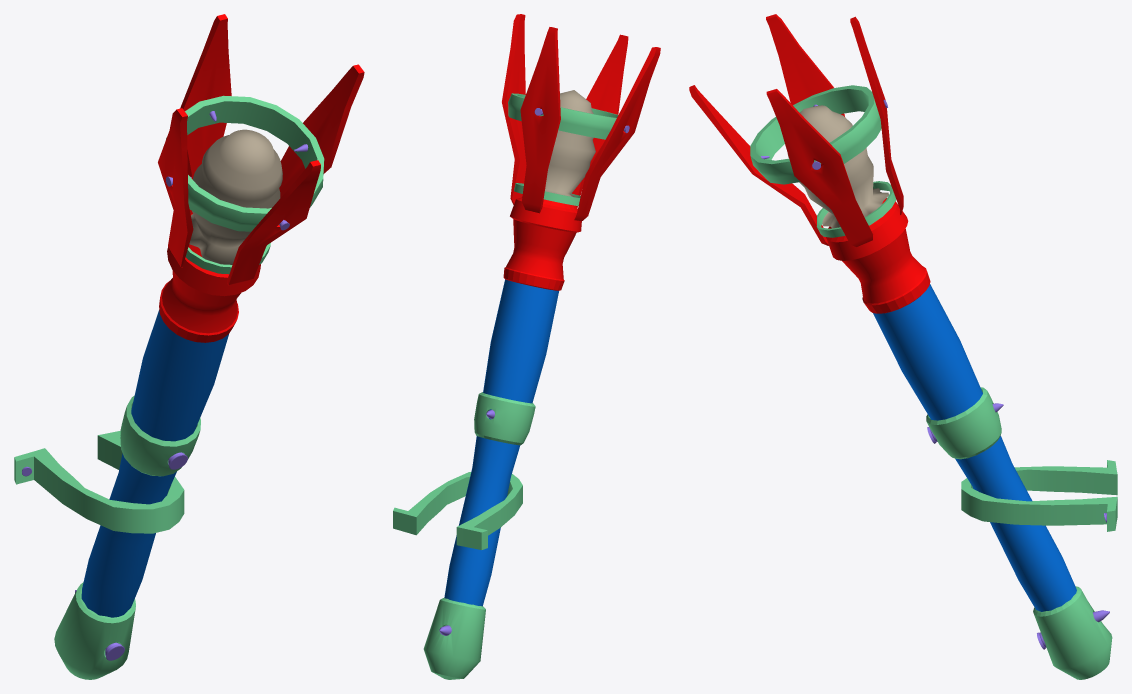
File: WallTorch_00.fbx
The picture shows the model from 3 angles, left to right: view 1: azimuth 30°, elevation 25°; view 2: azimuth 150°, elevation 25°; view 3: azimuth 270°, elevation 25°; orthographic projection. The views are drawn at different scales.
Parts seen in each view (by area): view 1: WallTorch_GEO; view 2: WallTorch_GEO; view 3: WallTorch_GEO.
Boxes of the visible parts, x1,y1,x2,y2 form: WallTorch_GEO: [14, 14, 364, 679]; WallTorch_GEO: [393, 14, 660, 679]; WallTorch_GEO: [689, 14, 1117, 679].
Bounding box in the file's own units: 95.98 × 377 × 223.
